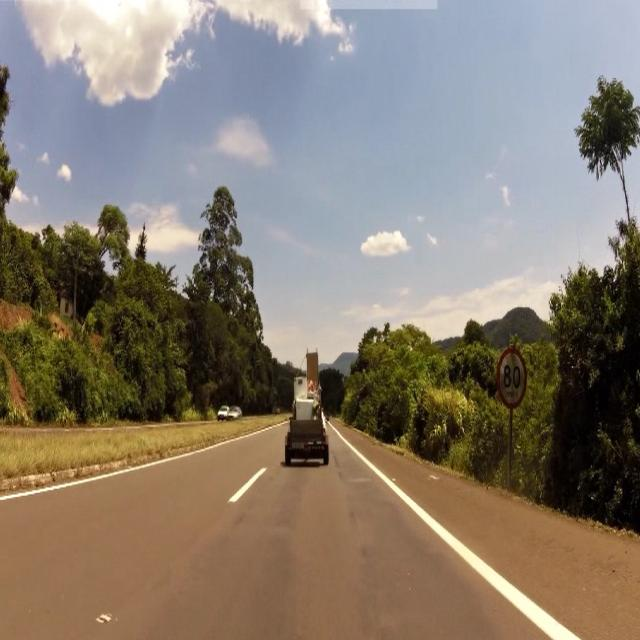R-19: (498, 352, 527, 408)
